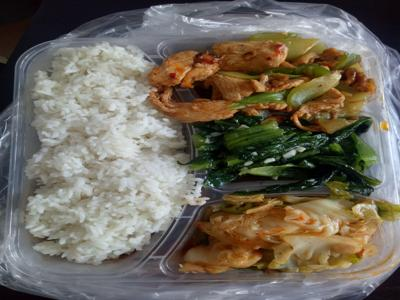j1: (158, 40, 374, 134)
rice: (36, 50, 200, 262)
ymc: (184, 115, 384, 196)
